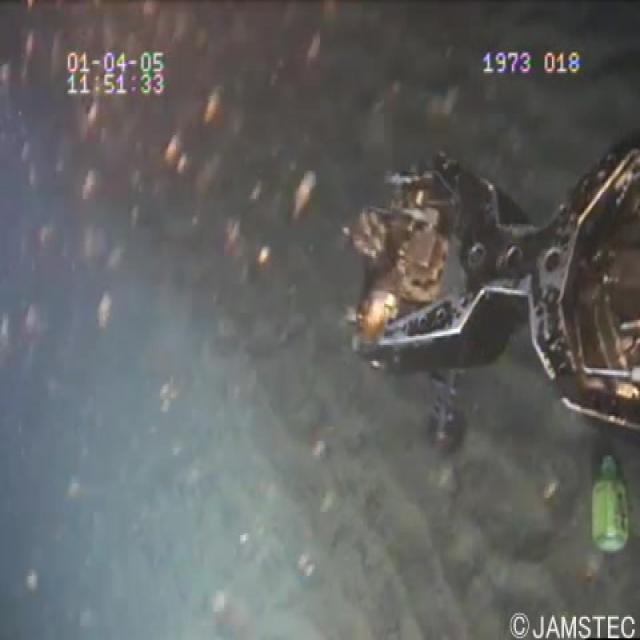plastic: (584, 446, 631, 564)
